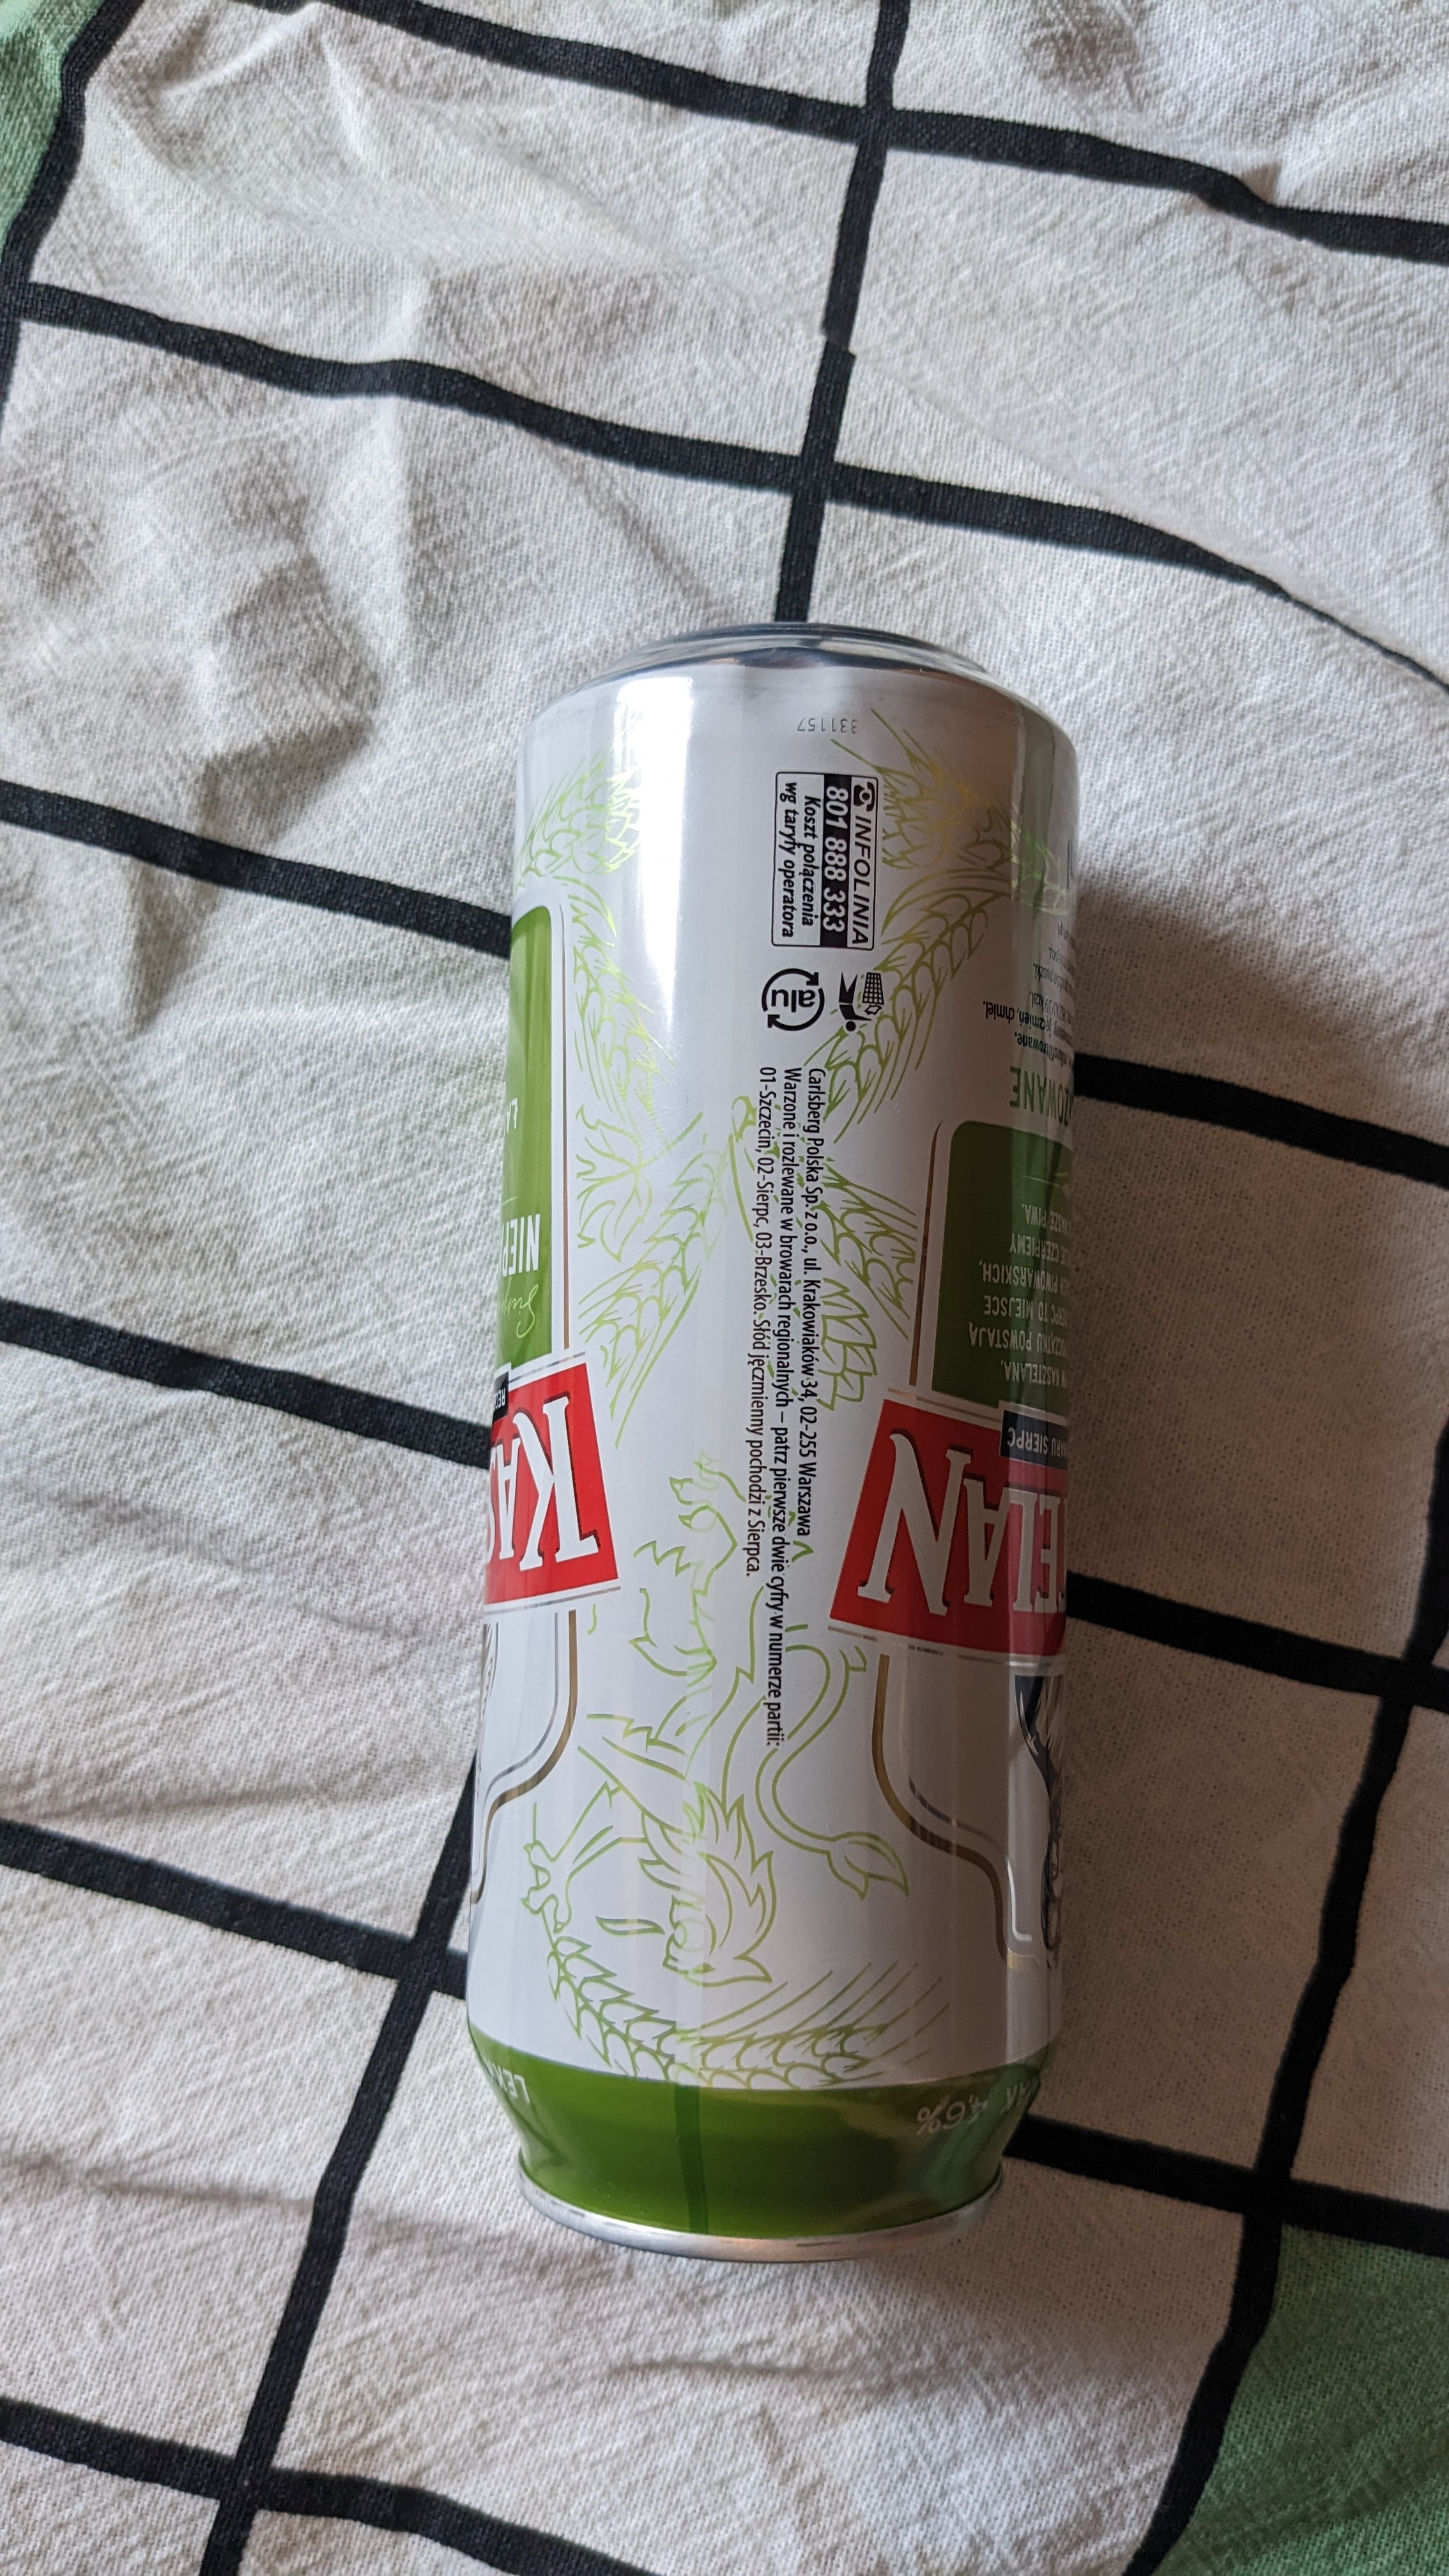kasztelan: (494, 621, 1108, 2288)
